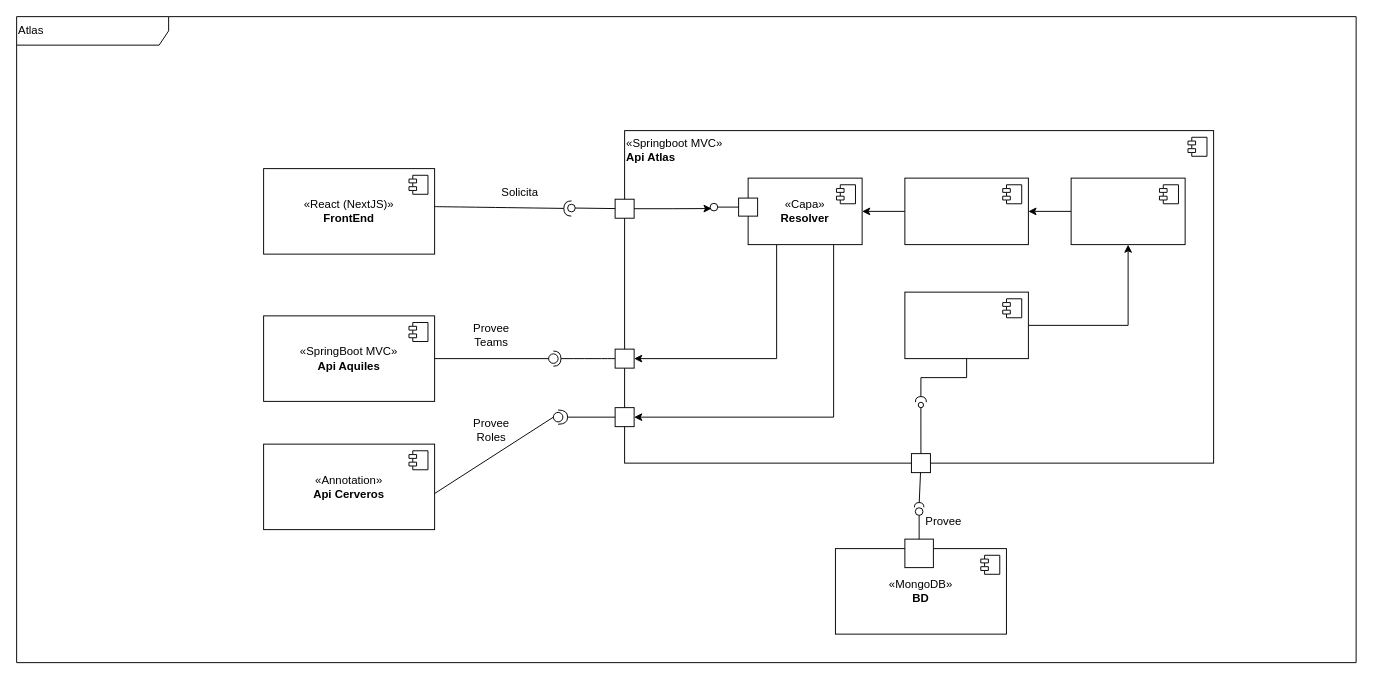
The diagram is 1373 pixels wide and 679 high, and some of its shapes have lost their labels. Here are the shapes that lost their labels. From the top down, the centre of each, then its label:
At point (966, 211): "«Capa» Business".
At point (1127, 211): "«Capa» Service".
At point (966, 325): "«Capa» Repository".
